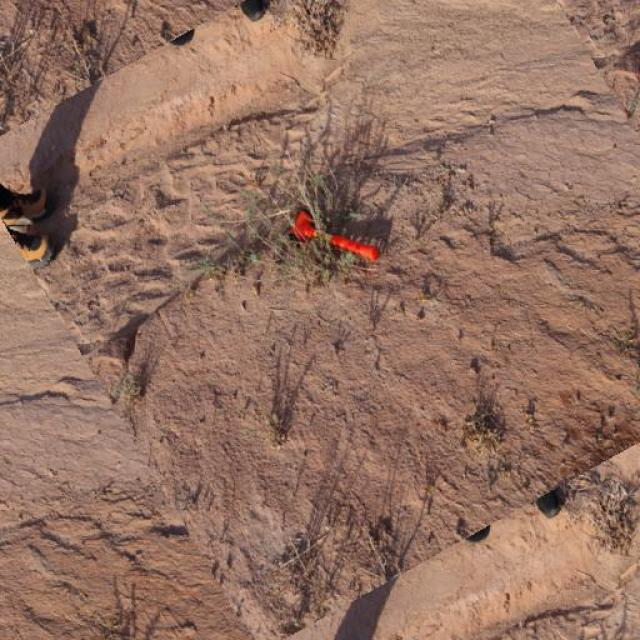mallet: (289, 208, 379, 262)
